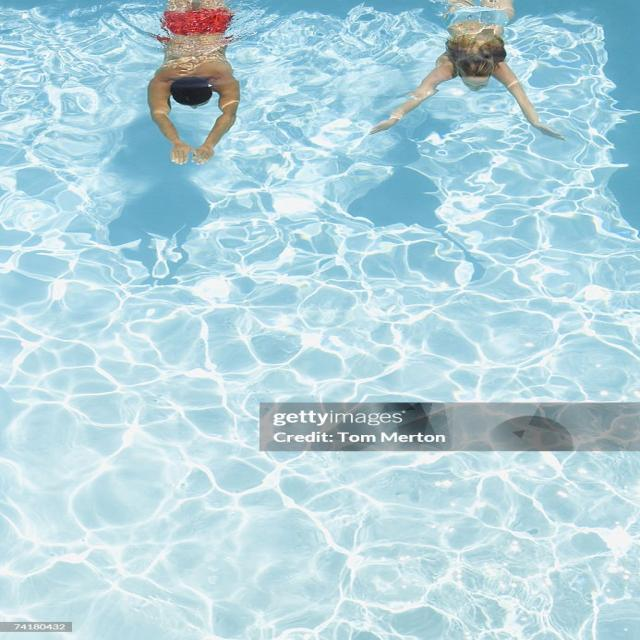Swimming: (367, 2, 568, 142), (146, 1, 239, 169)
